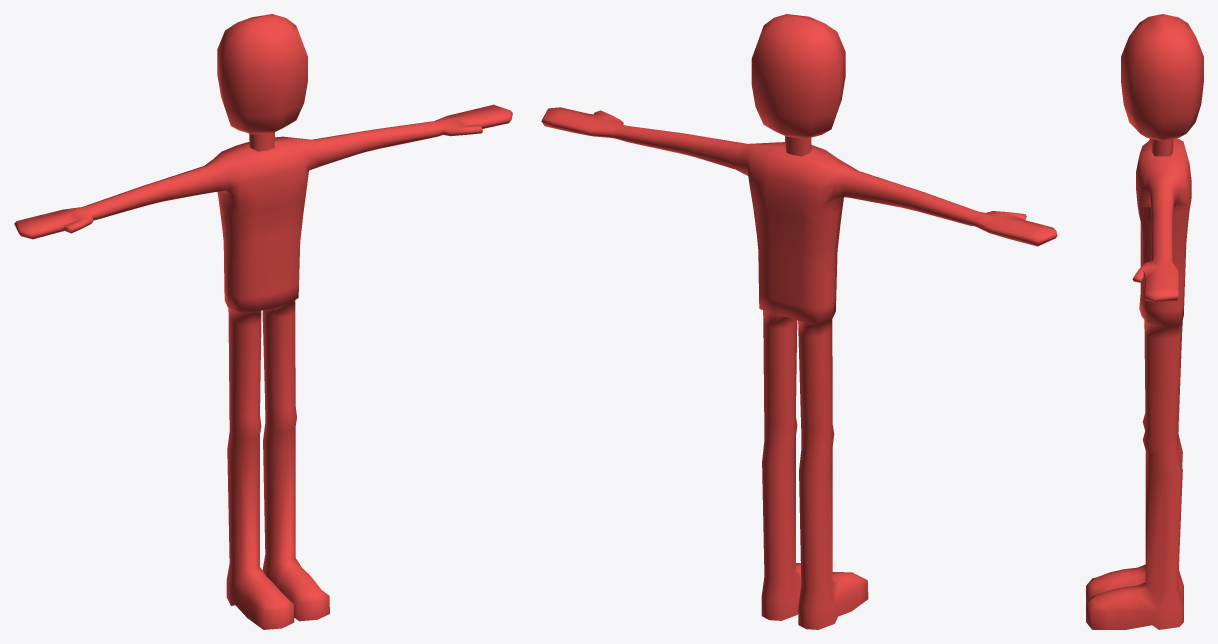
The model's file is Hyper Casual Character.fbx.
3 views of the same model, side by side, from view 1: azimuth 30°, elevation 25°; view 2: azimuth 150°, elevation 25°; view 3: azimuth 270°, elevation 25° (orthographic). The views are drawn at different scales.
Visible parts, largest first — view 1: Cube; view 2: Cube; view 3: Cube.
Part boxes in pixels (box(x1,y1,x2,y2)): Cube: box(14, 14, 512, 629); Cube: box(541, 14, 1057, 629); Cube: box(1086, 14, 1203, 629).
Size of the model in its own units: 186 by 209 by 37.61.
